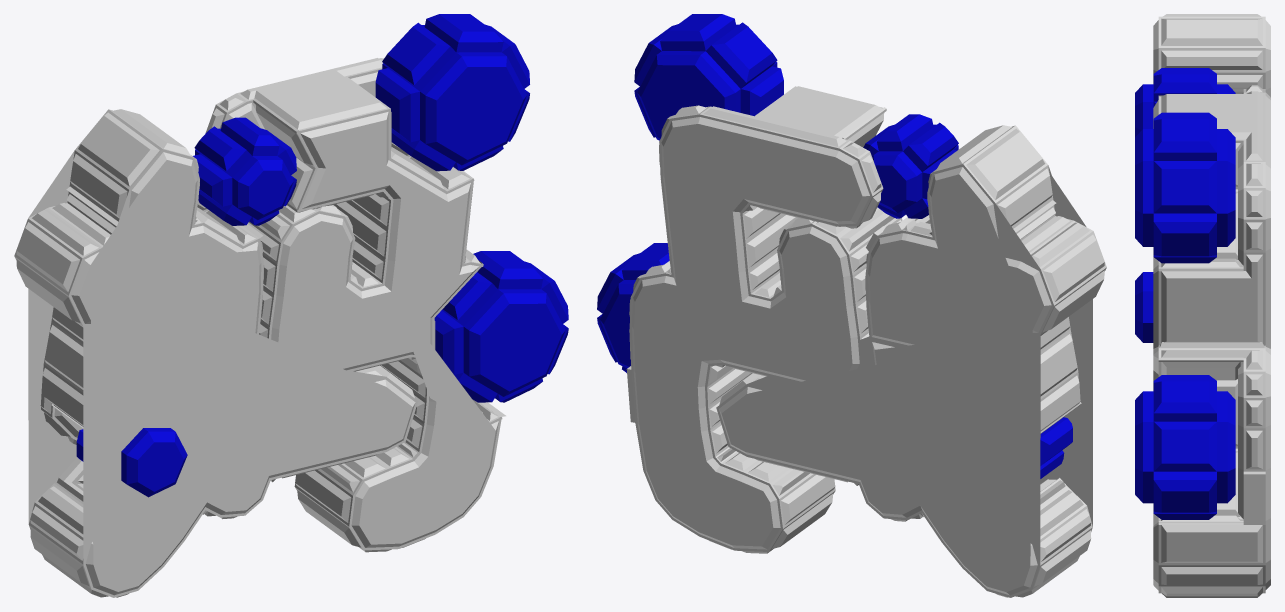
Rendered from Ch_China_妈_01.fbx.
3 views of the same model, side by side, from view 1: azimuth 30°, elevation 25°; view 2: azimuth 150°, elevation 25°; view 3: azimuth 270°, elevation 25° (orthographic). The views are drawn at different scales.
Parts seen in each view (by area): view 1: sphere1; view 2: sphere1; view 3: sphere1.
Part boxes in pixels (x1,y1,x2,y2): sphere1: (14, 14, 568, 597); sphere1: (597, 14, 1106, 597); sphere1: (1135, 14, 1270, 597).
Bounding box in the file's own units: 1.06 × 1.02 × 0.2541.
